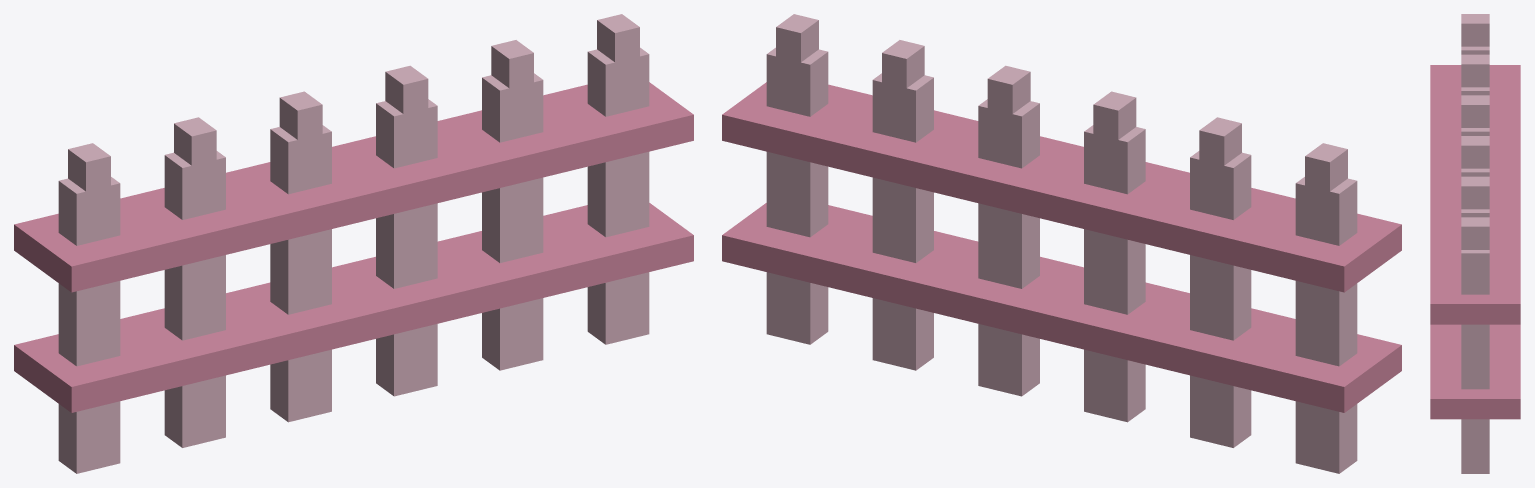
Rendered from ncb-picket-pink.glb.
3 renders of one model, left to right at view 1: azimuth 30°, elevation 25°; view 2: azimuth 150°, elevation 25°; view 3: azimuth 270°, elevation 25°, orthographic. The views are drawn at different scales.
Visible parts, largest first — view 1: box-prop; view 2: box-prop; view 3: box-prop.
Boxes of the visible parts, <box> form: box-prop: <box>14,14,693,473</box>; box-prop: <box>722,14,1401,473</box>; box-prop: <box>1430,14,1520,473</box>.
Bounding box in the file's own units: 2 × 0.95 × 0.32.
